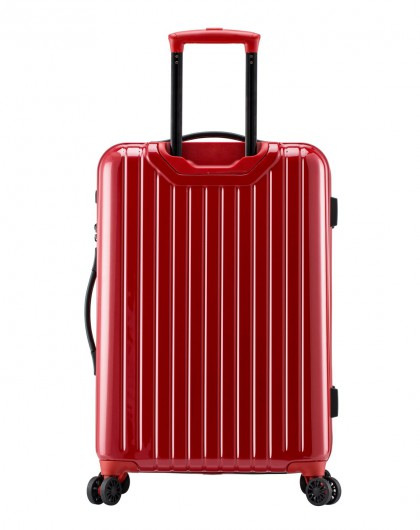luggage: (84, 25, 342, 506)
